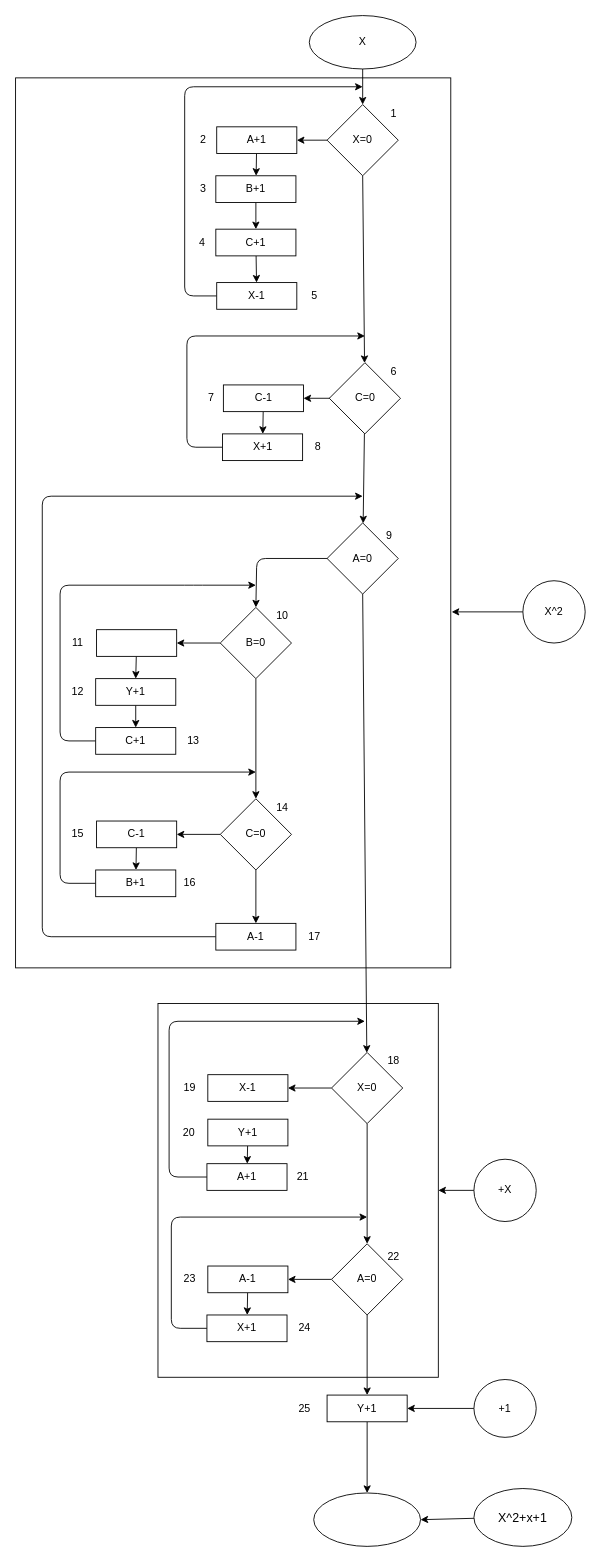
The diagram is 601 pixels wide and 1562 high, and some of its shapes have lost their labels. The shapes that lost their labels are listed below. From the top down, each one's centre as x and y in pixels, then its label:
pixel 136 642: B-1
pixel 367 1519: FIM
